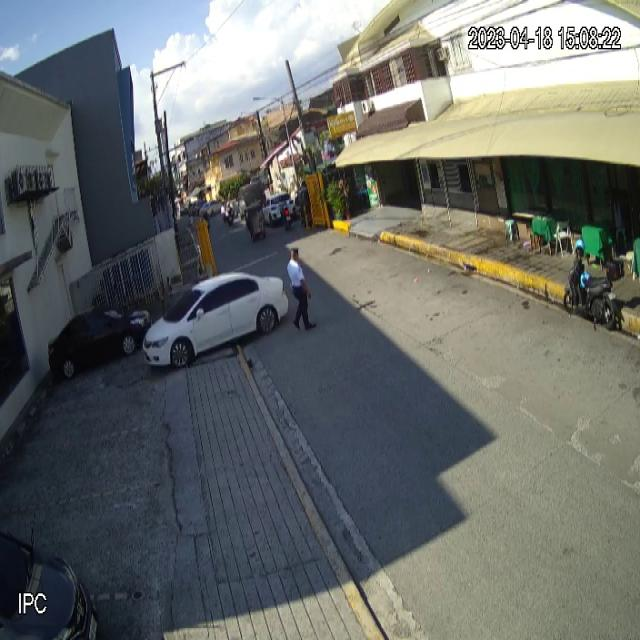Car: (143, 272, 290, 367)
Motorcycle: (563, 248, 625, 332)
